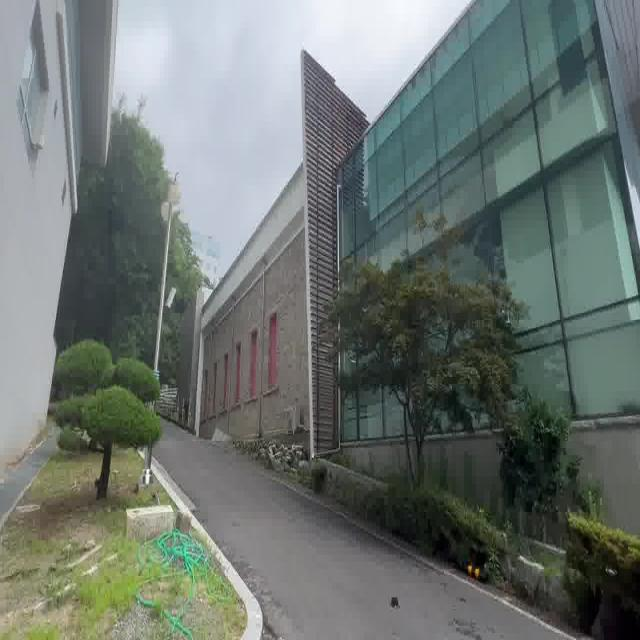building: (183, 1, 640, 471)
